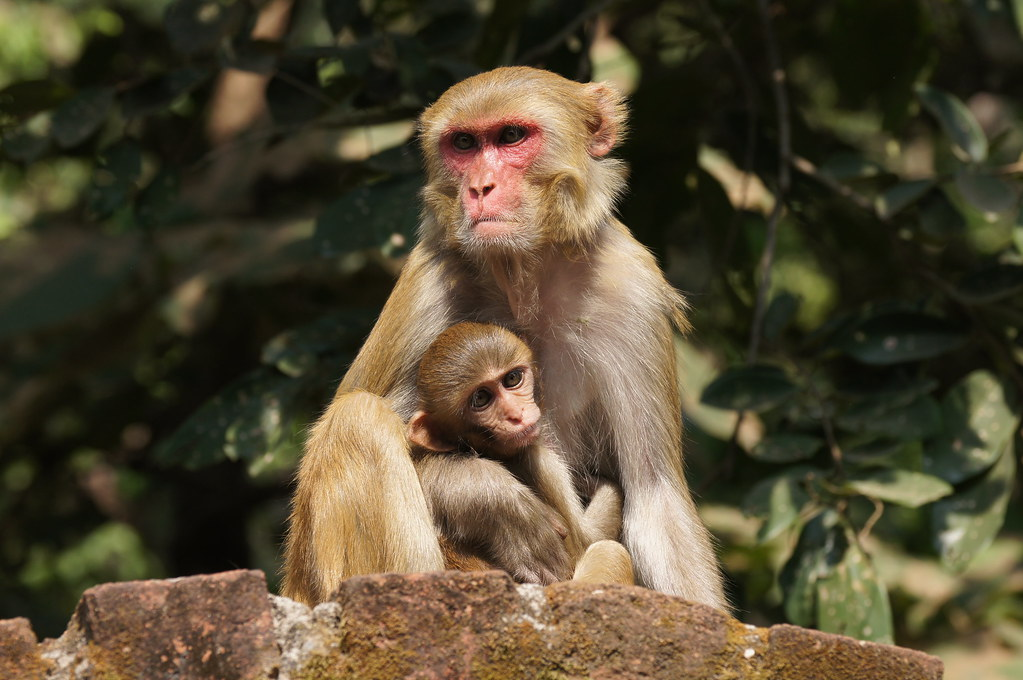monkey: (279, 57, 739, 615), (387, 319, 623, 637)
